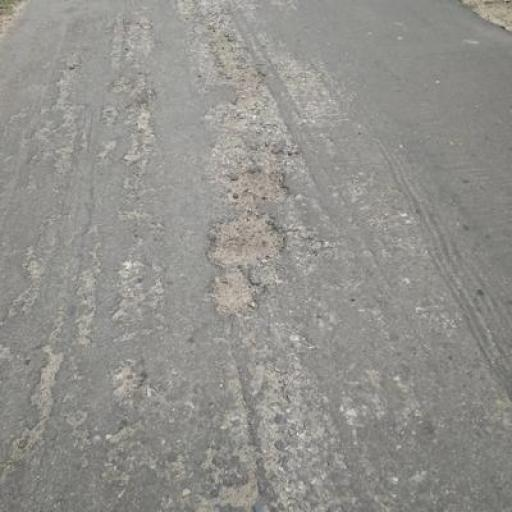hole: (200, 110, 298, 325)
